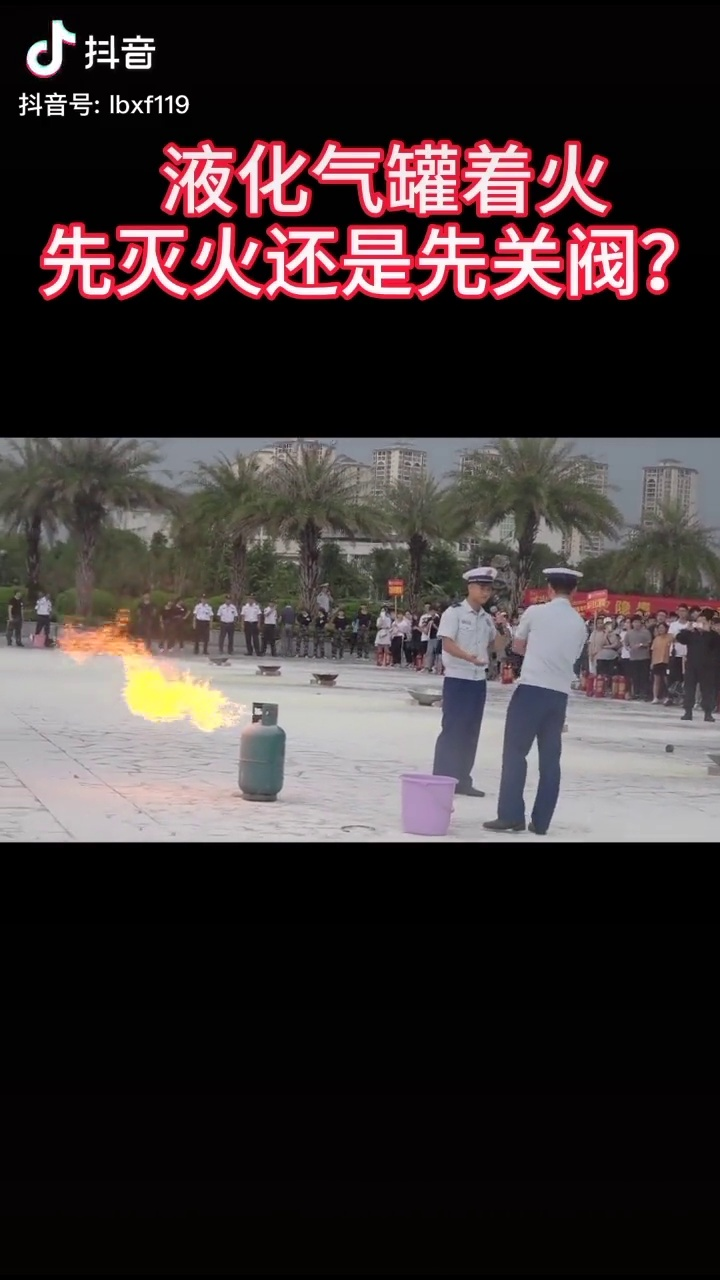fire: (98, 628, 235, 730)
